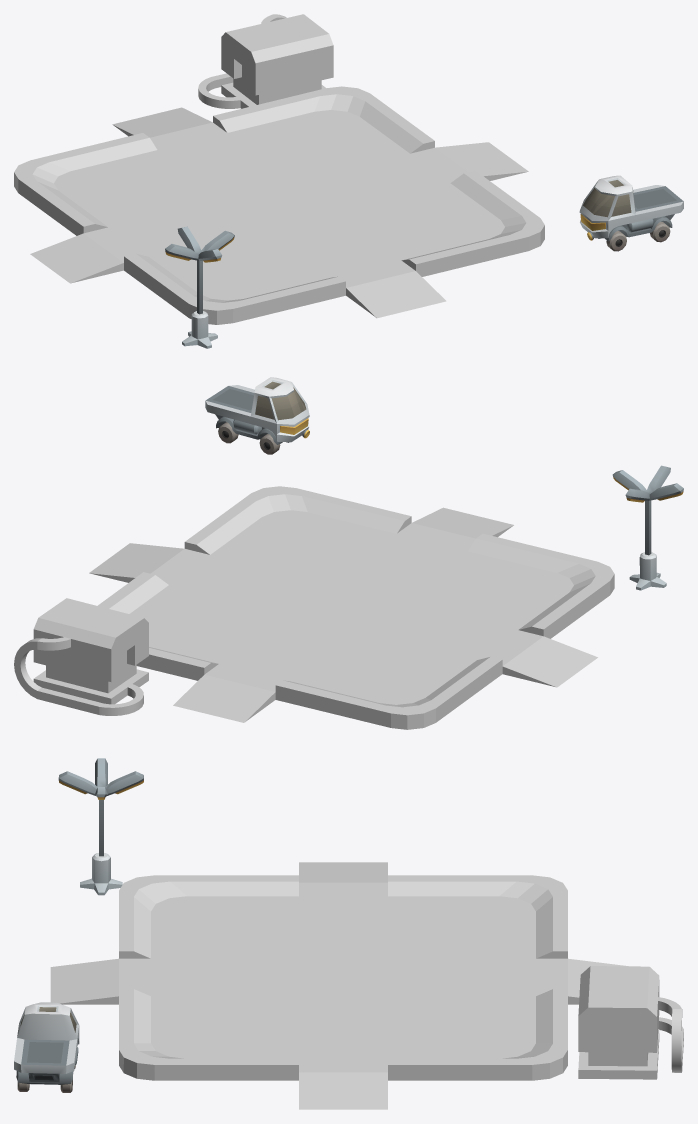
Rendered from Dock_1.glb.
3 renders of one model, top to bottom at view 1: azimuth 30°, elevation 25°; view 2: azimuth 150°, elevation 25°; view 3: azimuth 270°, elevation 25°, orthographic. The views are drawn at different scales.
Parts seen in each view (by area): view 1: Plane, machine_generator, spacetruck.001, lights.002, cable; view 2: Plane, machine_generator, spacetruck.001, cable, lights.002; view 3: Plane, machine_generator, spacetruck.001, lights.002, cable.
Boxes of the visible parts, box(x1,y1,x2,y2) form: Plane: box(14, 86, 544, 324); machine_generator: box(221, 14, 333, 108); spacetruck.001: box(579, 175, 683, 251); lights.002: box(165, 226, 234, 348); cable: box(198, 14, 286, 108); Plane: box(89, 486, 614, 729); machine_generator: box(33, 598, 148, 704); spacetruck.001: box(205, 377, 309, 454); cable: box(14, 637, 143, 715); lights.002: box(612, 465, 683, 590); Plane: box(50, 862, 628, 1109); machine_generator: box(578, 966, 659, 1079); spacetruck.001: box(14, 1002, 79, 1092); lights.002: box(58, 758, 143, 895); cable: box(658, 997, 683, 1072).
Bounding box in the file's own units: 4.98 × 1.03 × 5.33.
3 materials, 2 textured.
